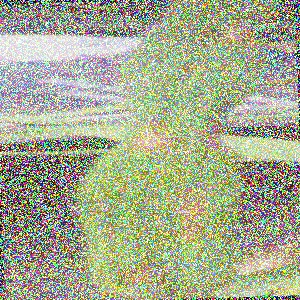Brown_Spot: (92, 239, 172, 296), (120, 110, 187, 162), (155, 179, 217, 224), (208, 13, 261, 57), (164, 221, 209, 250)
